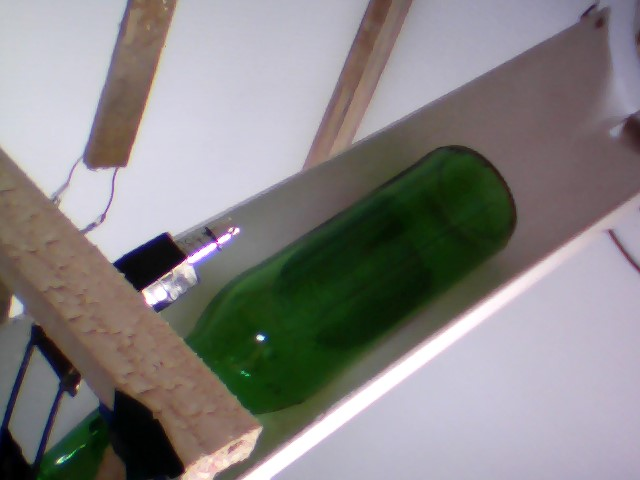vidrio: (178, 137, 519, 421)
